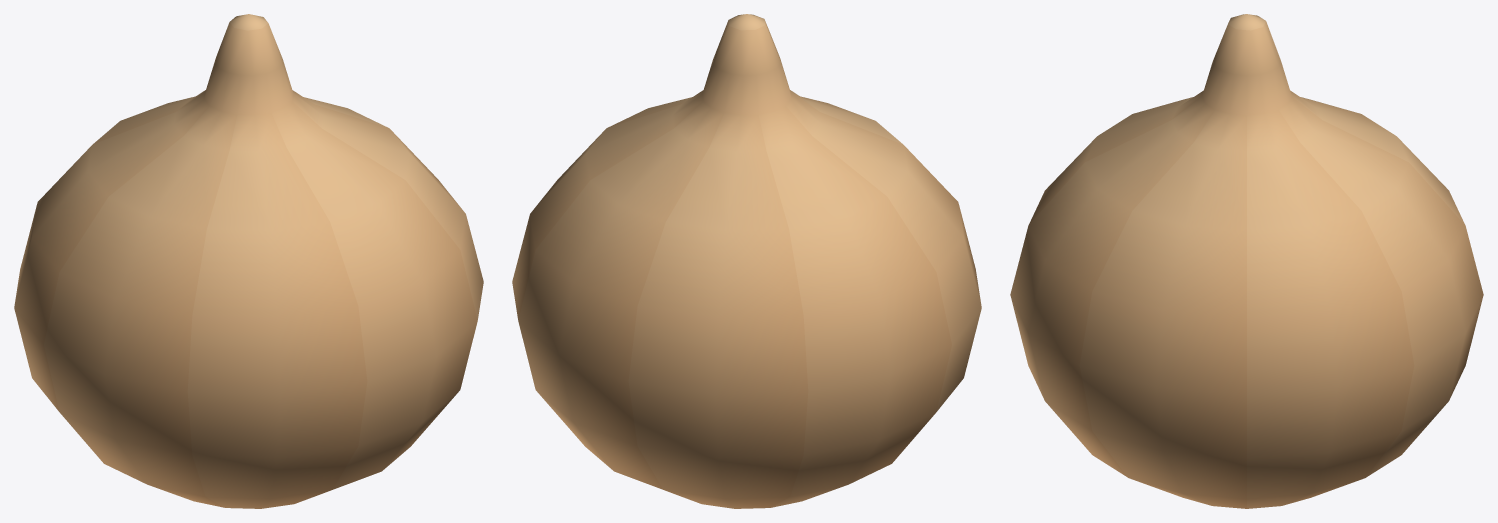
Rendered from food_ingredient_onion.obj.
3 renders of one model, left to right at view 1: azimuth 30°, elevation 25°; view 2: azimuth 150°, elevation 25°; view 3: azimuth 270°, elevation 25°, orthographic.
Parts seen in each view (by area): view 1: food_ingredient_onion_Sphere.022; view 2: food_ingredient_onion_Sphere.022; view 3: food_ingredient_onion_Sphere.022.
Boxes of the visible parts, x1=… form: food_ingredient_onion_Sphere.022: x1=14, y1=14, x2=483, y2=508; food_ingredient_onion_Sphere.022: x1=512, y1=14, x2=981, y2=508; food_ingredient_onion_Sphere.022: x1=1010, y1=14, x2=1483, y2=508.
Size of the model in its own units: 0.75 by 0.8624 by 0.75.
1 material, 1 textured.
